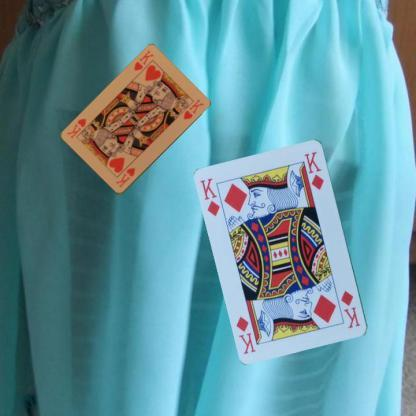Kd: (197, 175, 222, 218), (338, 288, 362, 330)
Kh: (131, 48, 156, 73), (113, 165, 136, 189)
